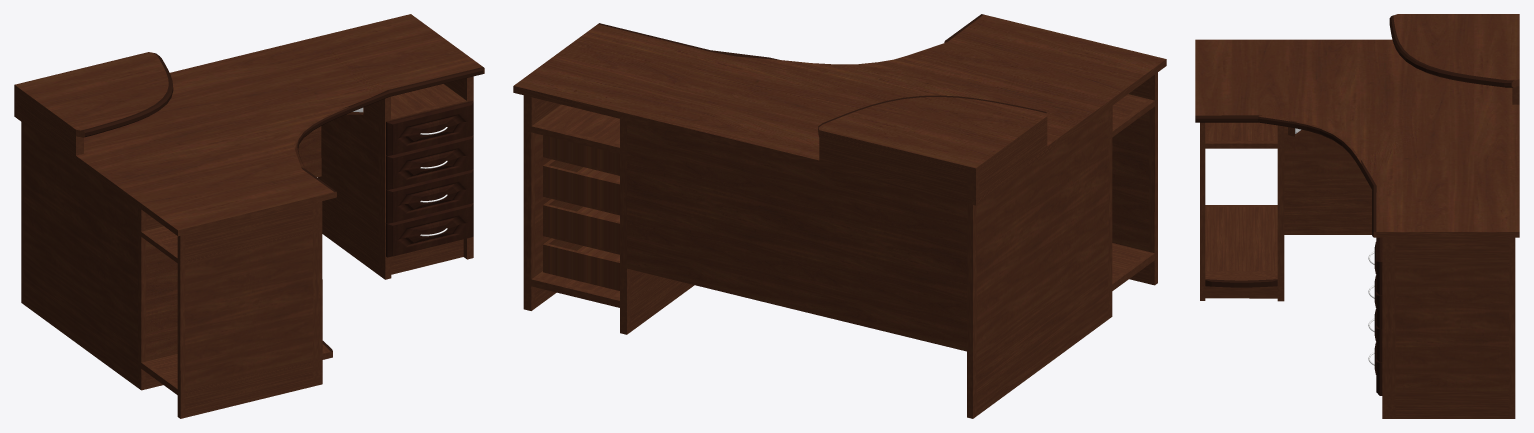
3 views of the same model, side by side, from view 1: azimuth 30°, elevation 25°; view 2: azimuth 150°, elevation 25°; view 3: azimuth 270°, elevation 25° (orthographic). The views are drawn at different scales.
Visible parts, largest first — view 1: Table, Bedside Table, Bedside Table.001, Bedside Table.003, Bedside Table.002; view 2: Table, Bedside Table.001, Bedside Table.002, Bedside Table.003, Bedside Table; view 3: Table, Bedside Table, Bedside Table.001, Bedside Table.003, Bedside Table.002.
Part boxes in pixels (bbox=[...]): Table: bbox=[14, 14, 484, 418]; Bedside Table: bbox=[386, 101, 473, 155]; Bedside Table.001: bbox=[386, 135, 473, 189]; Bedside Table.003: bbox=[386, 203, 473, 257]; Bedside Table.002: bbox=[386, 169, 473, 223]; Table: bbox=[513, 14, 1166, 418]; Bedside Table.001: bbox=[543, 159, 619, 215]; Bedside Table.002: bbox=[543, 199, 619, 254]; Bedside Table.003: bbox=[543, 238, 619, 290]; Bedside Table: bbox=[543, 135, 619, 175]; Table: bbox=[1195, 14, 1519, 418]; Bedside Table: bbox=[1368, 237, 1382, 295]; Bedside Table.001: bbox=[1368, 275, 1382, 328]; Bedside Table.003: bbox=[1368, 342, 1382, 395]; Bedside Table.002: bbox=[1368, 309, 1382, 362].
Size of the model in its own units: 5.6 by 2.94 by 4.
Materials: 5 (2 with a texture image).
